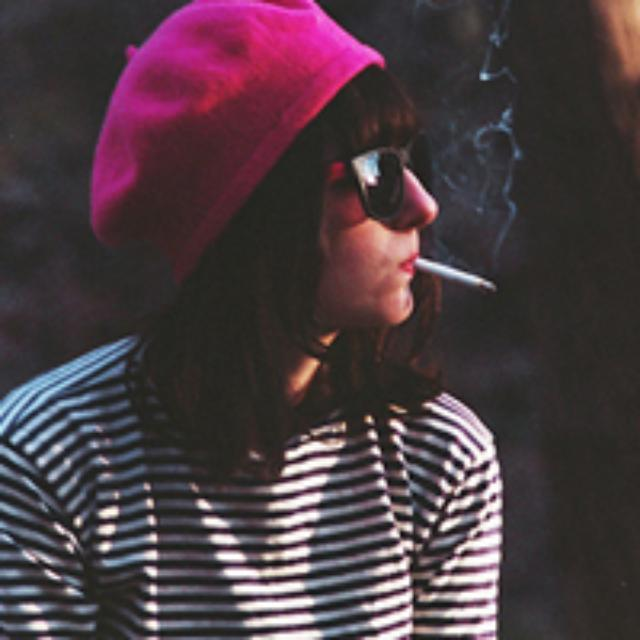Smoking: (414, 253, 498, 297)
